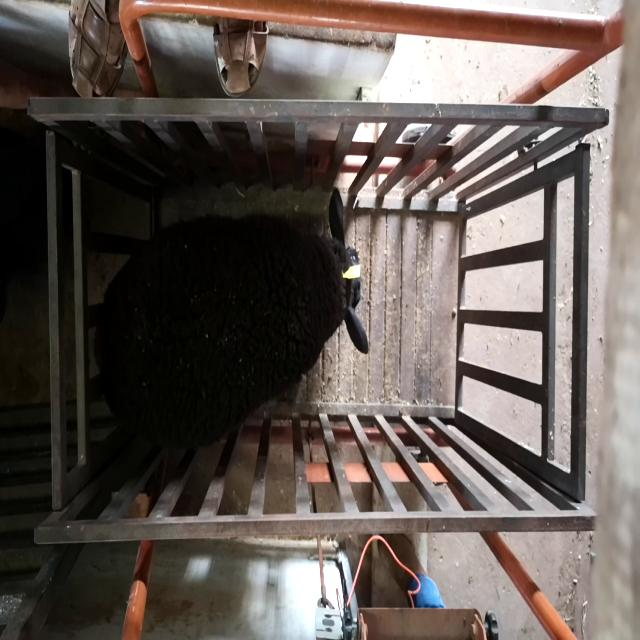sheep: (95, 187, 369, 448)
